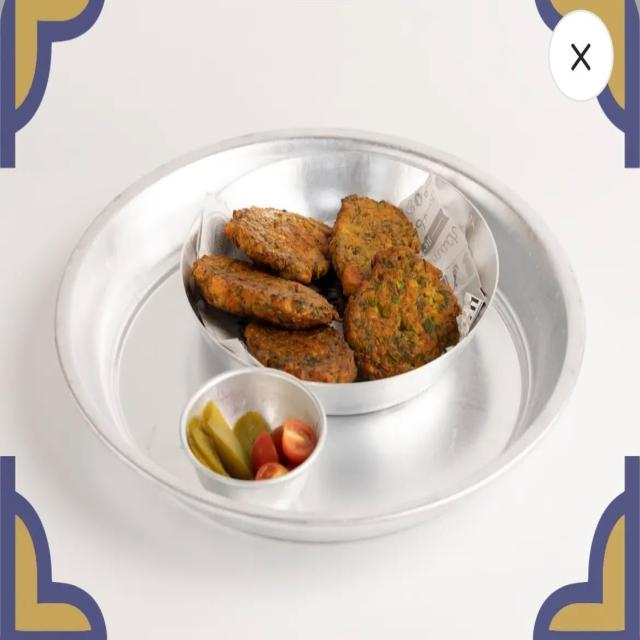Kebab: (192, 188, 464, 380)
